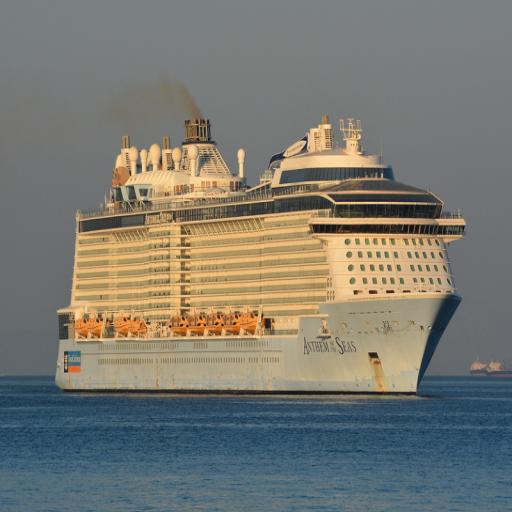cruises: (50, 115, 473, 411)
